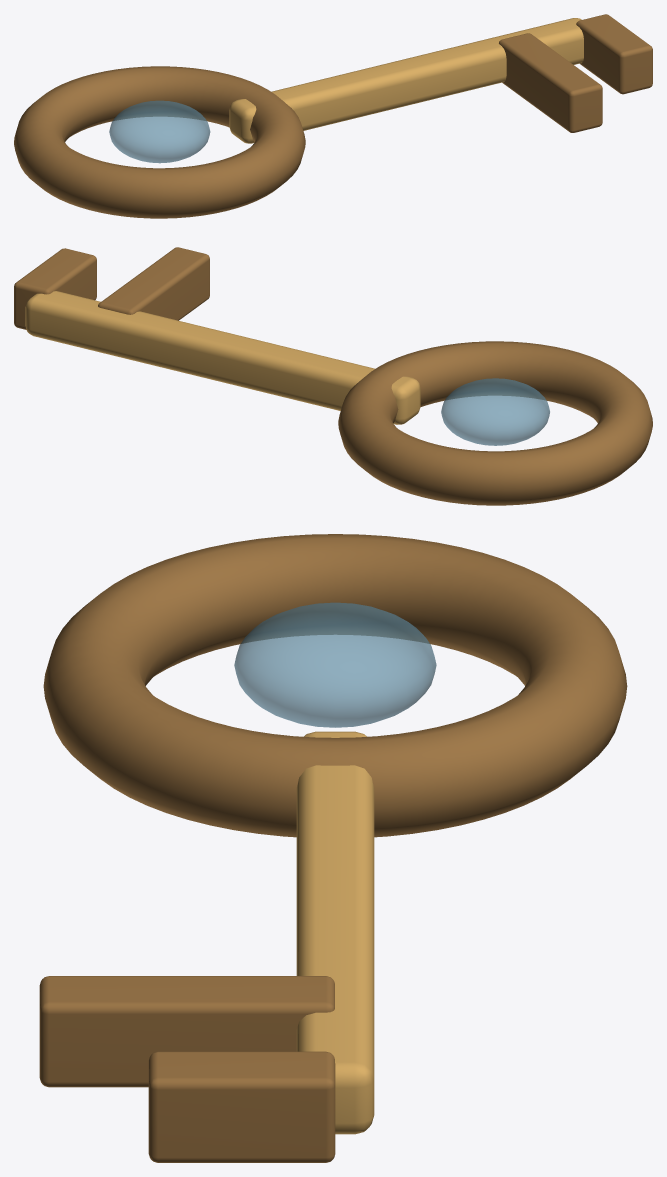
The model's file is desk-key-v1.glb.
3 renders of one model, top to bottom at view 1: azimuth 30°, elevation 25°; view 2: azimuth 150°, elevation 25°; view 3: azimuth 270°, elevation 25°, orthographic. The views are drawn at different scales.
Visible parts, largest first — view 1: KeyBow, KeyShaft, KeyTooth, KeyBowGem, KeyTooth.001; view 2: KeyBow, KeyShaft, KeyBowGem, KeyTooth, KeyTooth.001; view 3: KeyBow, KeyTooth, KeyShaft, KeyTooth.001, KeyBowGem.
Part boxes in pixels (x1=…): KeyBow: x1=14, y1=66, x2=305, y2=218; KeyShaft: x1=229, y1=18, x2=583, y2=143; KeyTooth: x1=499, y1=33, x2=602, y2=132; KeyBowGem: x1=109, y1=100, x2=210, y2=163; KeyTooth.001: x1=576, y1=14, x2=652, y2=94; KeyBow: x1=338, y1=341, x2=652, y2=505; KeyShaft: x1=25, y1=291, x2=420, y2=424; KeyBowGem: x1=441, y1=378, x2=549, y2=445; KeyTooth: x1=98, y1=247, x2=209, y2=320; KeyTooth.001: x1=14, y1=248, x2=96, y2=329; KeyBow: x1=43, y1=534, x2=627, y2=837; KeyTooth: x1=39, y1=976, x2=334, y2=1087; KeyShaft: x1=296, y1=731, x2=374, y2=1134; KeyTooth.001: x1=148, y1=1051, x2=335, y2=1162; KeyBowGem: x1=234, y1=602, x2=436, y2=727.
Bounding box in the file's own units: 1.7 × 0.16 × 0.755.
